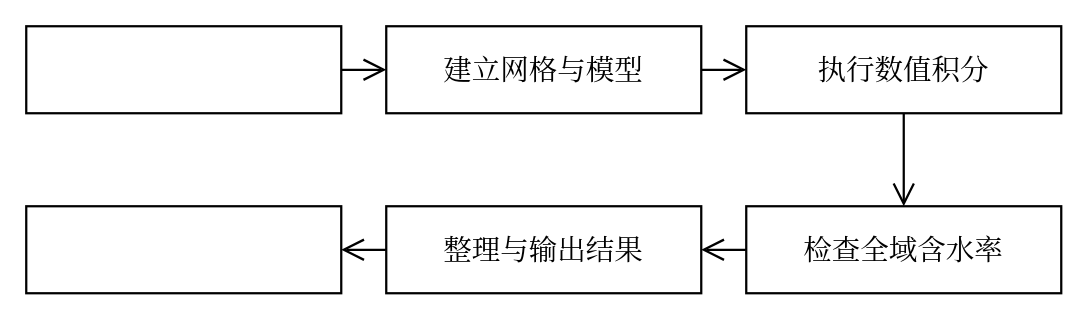
This 1089x321 diagram has some shape labels left out. The shapes that lost their labels are listed below. From the top down, each one's box as (x1, y1, x2, y2) in pixels, then its label:
(24, 24, 342, 114): 读取初态与边界
(24, 204, 342, 294): 人工核验后采纳
